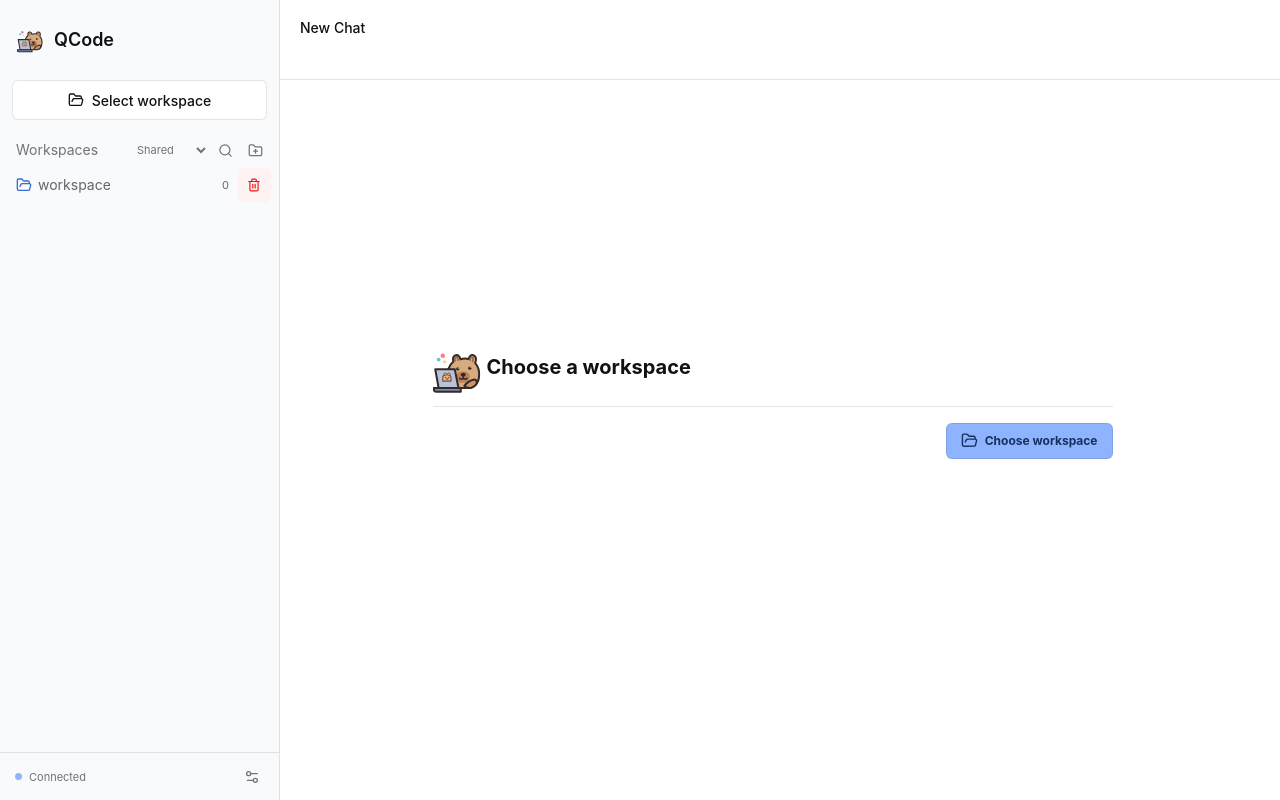
Test: projectTranscript › guides Workspace selection before creating a session
Expected: the heading "Choose a workspace" is shown, [486, 352, 691, 380]
What coordinates should you click on to do the following:
click the button "Choose workspace"
I would click on:
 (1029, 440)
Its box is [946, 422, 1112, 458].
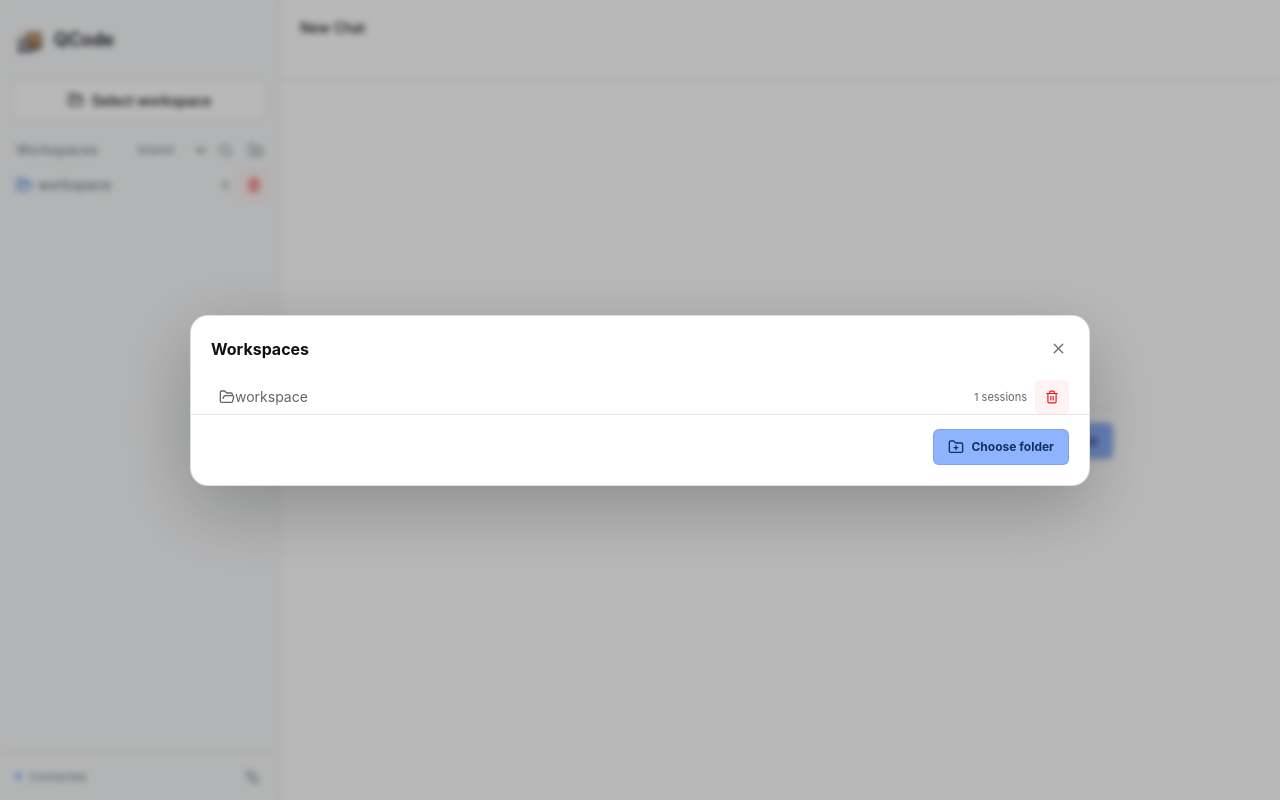
Now the dialog "Workspaces" is shown, box [190, 314, 1090, 486]
